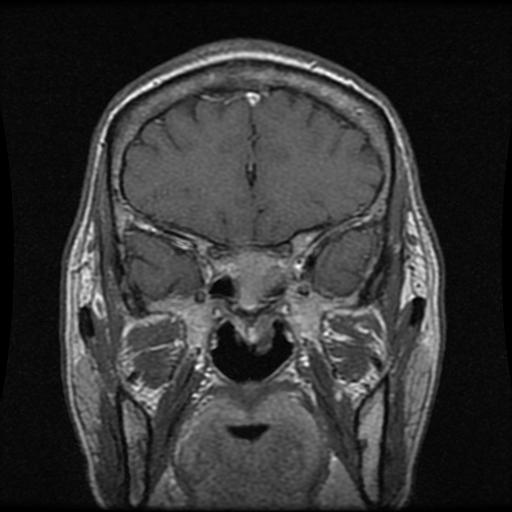Pituirity_tumour: (228, 252, 285, 303)
